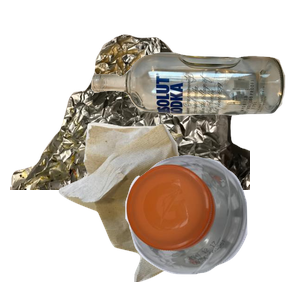glass: (88, 50, 300, 158)
metal: (10, 32, 250, 212)
plastic: (123, 152, 300, 300)
trash: (56, 120, 247, 300)
